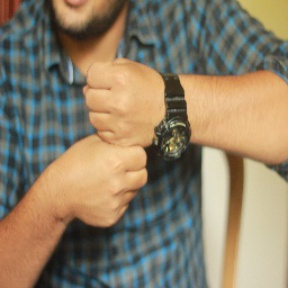G: (60, 55, 170, 232)
